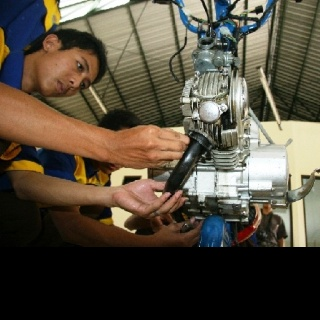without_mask: (32, 29, 105, 100), (35, 45, 99, 98)
